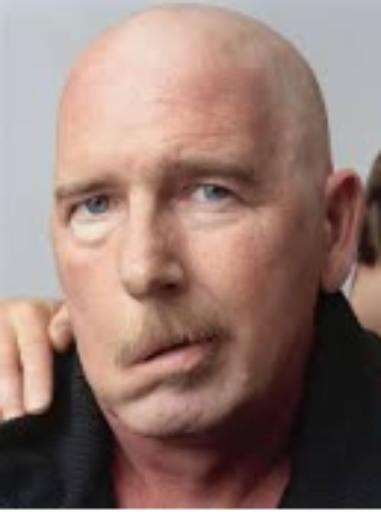left_eye: (180, 182, 247, 213)
left_lip_corner: (200, 327, 228, 355)
right_eye: (69, 195, 124, 226)
right_lip_corner: (125, 355, 147, 375)
